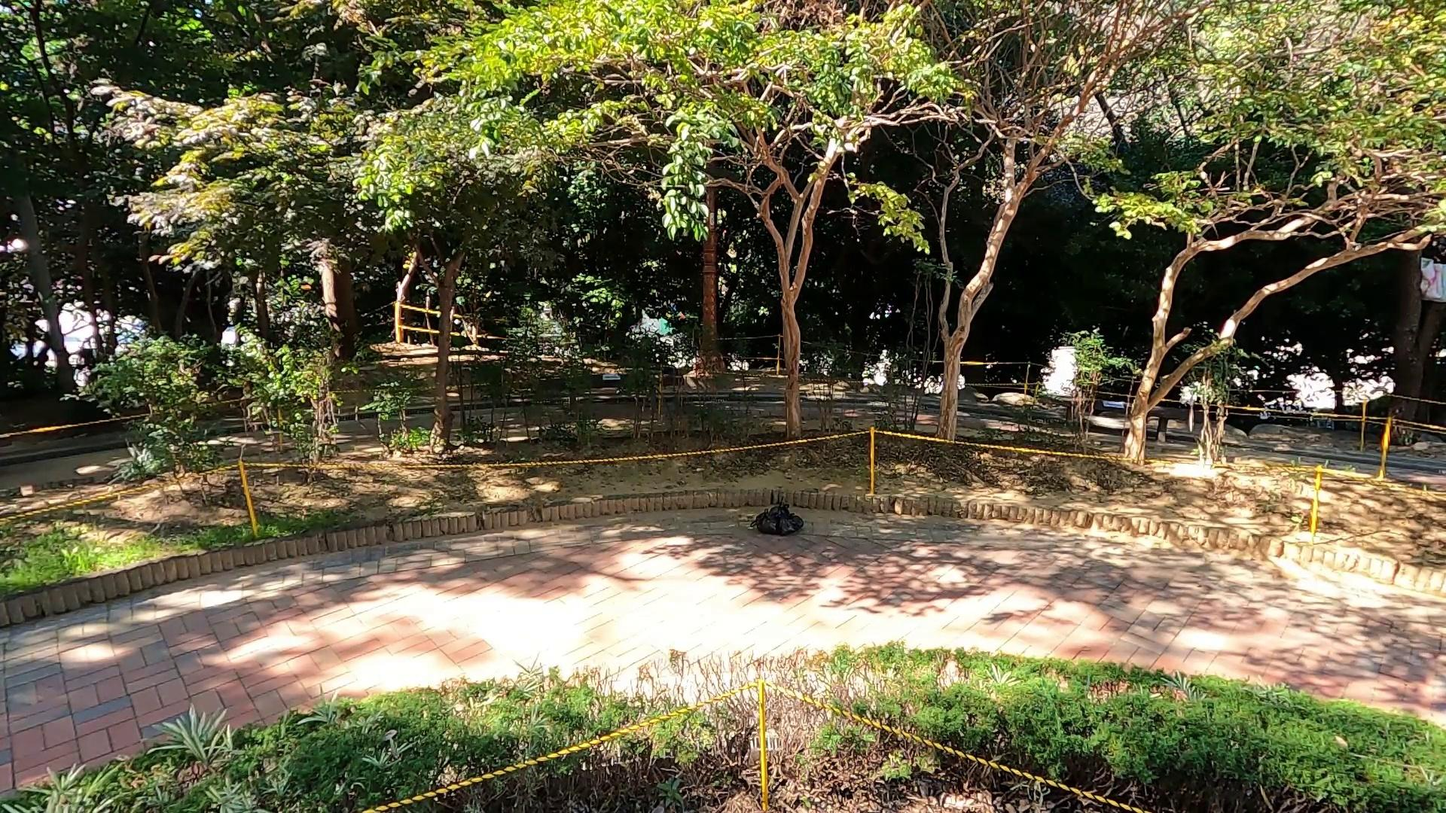trash: (751, 506, 778, 534)
